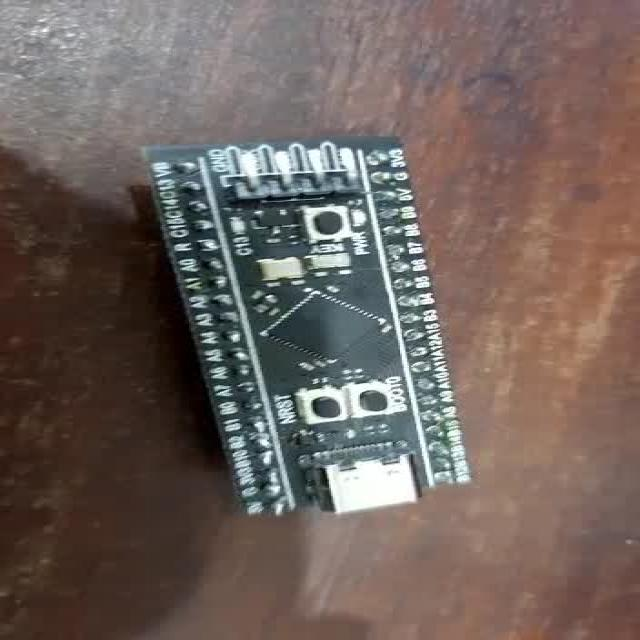stm32: (141, 139, 485, 519)
